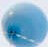Balloon: (2, 3, 48, 47)
